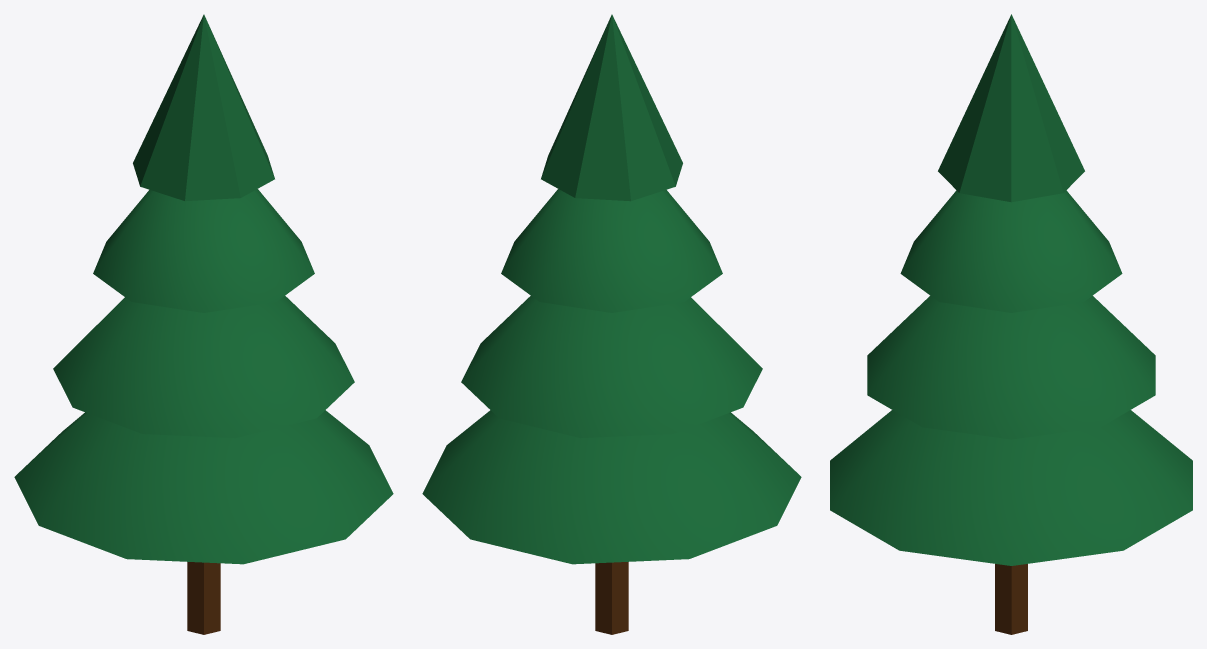
The model's file is tree_pine.glb.
3 renders of one model, left to right at view 1: azimuth 30°, elevation 25°; view 2: azimuth 150°, elevation 25°; view 3: azimuth 270°, elevation 25°, orthographic.
Parts seen in each view (by area): view 1: Tree_Alpine_Pine; view 2: Tree_Alpine_Pine; view 3: Tree_Alpine_Pine.
Boxes of the visible parts, x1=… form: Tree_Alpine_Pine: x1=14, y1=14, x2=393, y2=634; Tree_Alpine_Pine: x1=422, y1=14, x2=801, y2=634; Tree_Alpine_Pine: x1=830, y1=14, x2=1192, y2=634.
Bounding box in the file's own units: 4.4 × 7.8 × 4.18.
